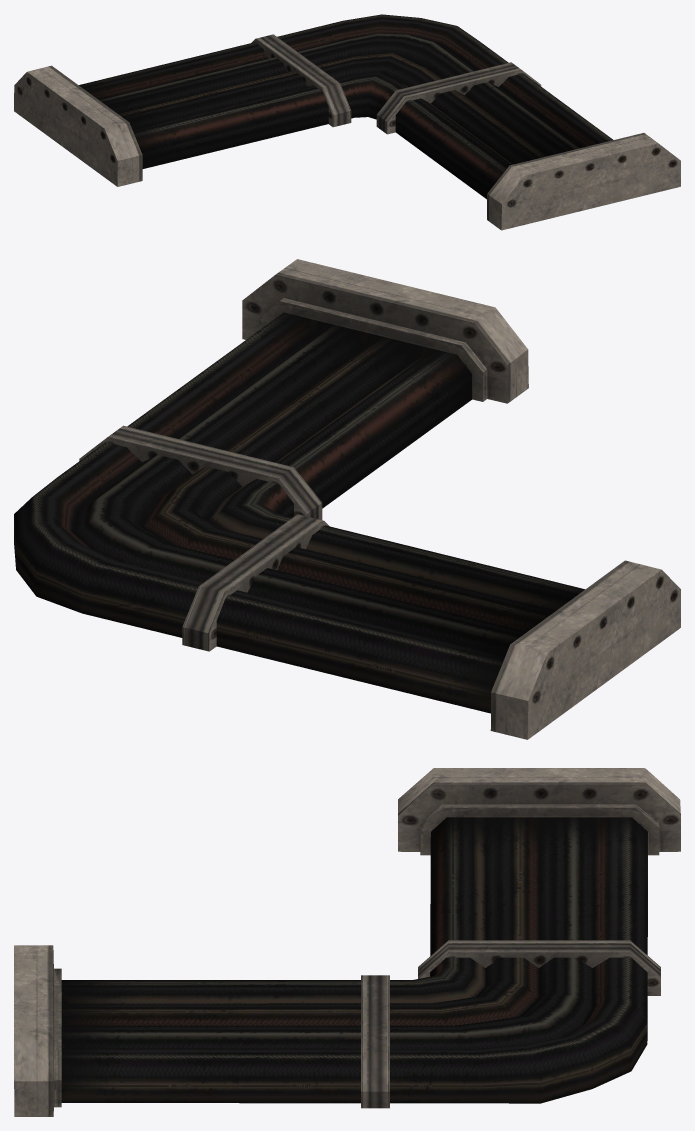
Rendered from cables_wall_turn_short_rounded_white.dae.
3 renders of one model, top to bottom at view 1: azimuth 30°, elevation 25°; view 2: azimuth 150°, elevation 25°; view 3: azimuth 270°, elevation 25°, orthographic. The views are drawn at different scales.
Parts seen in each view (by area): view 1: polySurface847; view 2: polySurface847; view 3: polySurface847.
Boxes of the visible parts, bbox=[...] form: polySurface847: bbox=[14, 14, 680, 230]; polySurface847: bbox=[14, 259, 680, 739]; polySurface847: bbox=[14, 768, 680, 1116].
Bounding box in the file's own units: 1.27 × 0.146 × 1.27.
